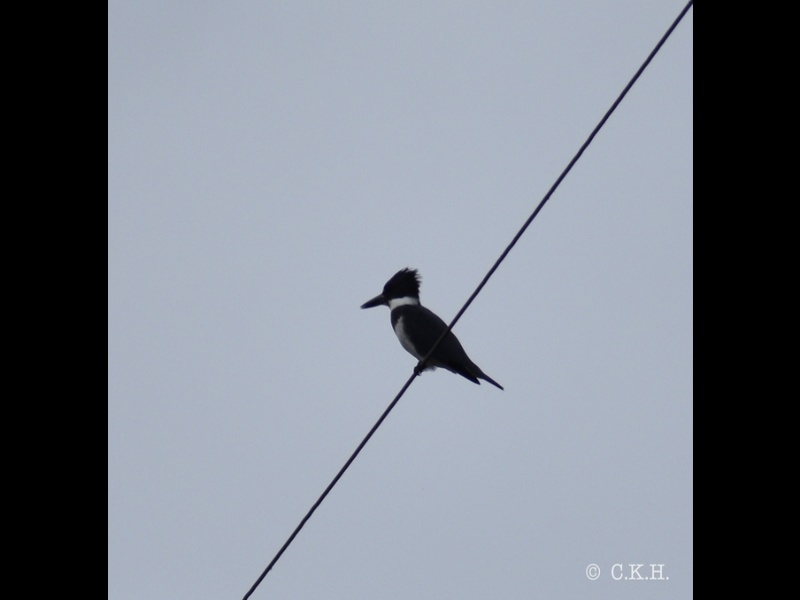kingfisher: (359, 266, 506, 394)
